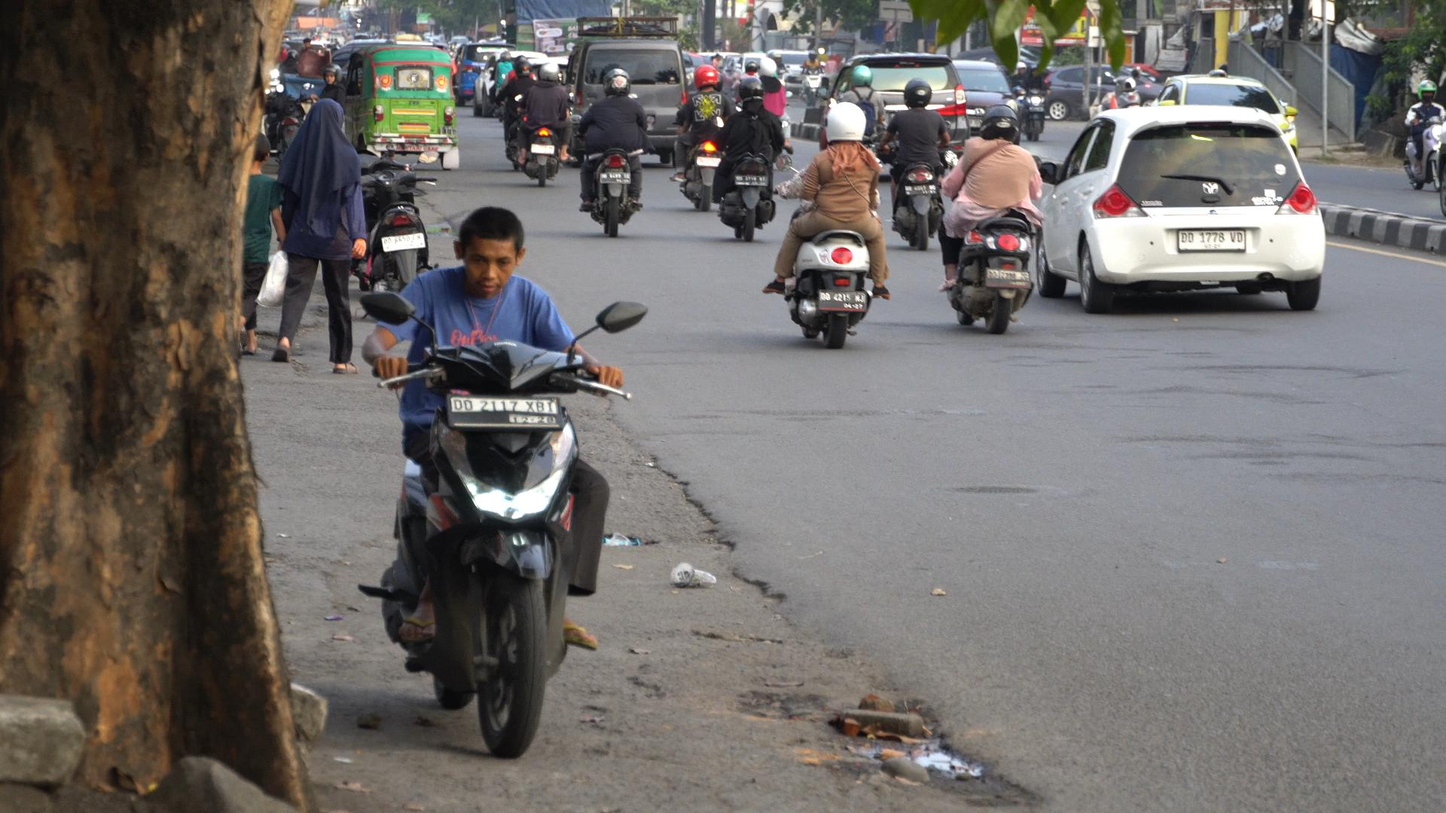number-plate: (447, 391, 566, 429)
